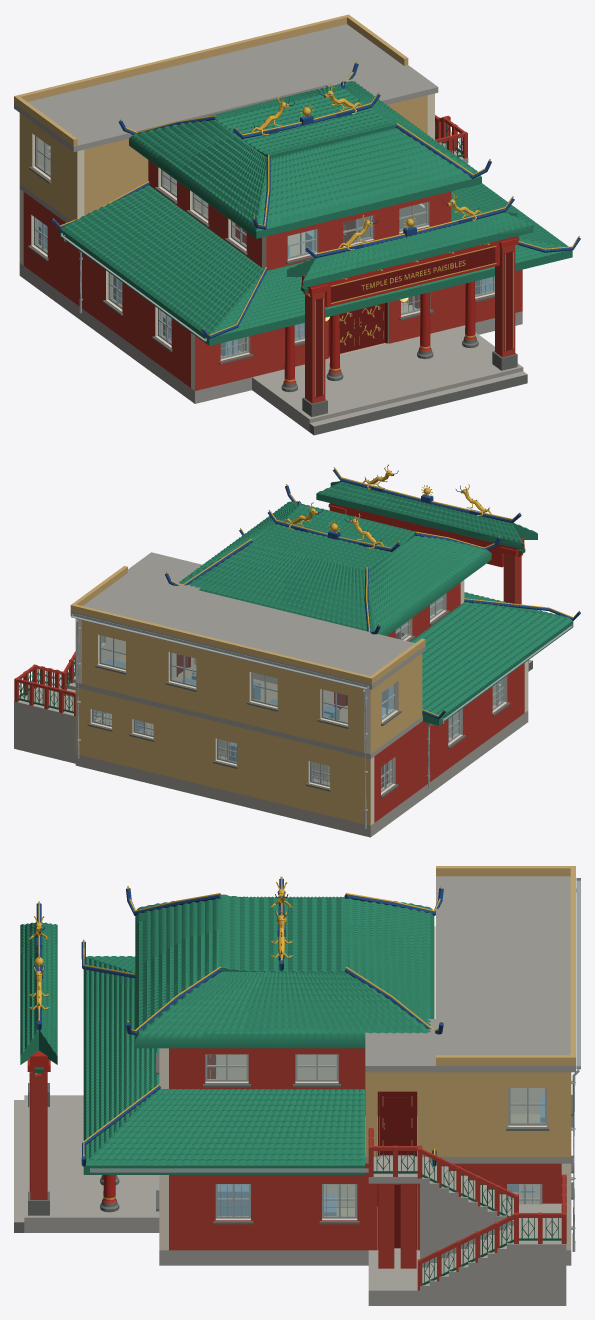
Rendered from port_sarcelle_H03.glb.
3 views of the same model, one above another, from view 1: azimuth 30°, elevation 25°; view 2: azimuth 150°, elevation 25°; view 3: azimuth 270°, elevation 25° (orthographic). The views are drawn at different scales.
Visible parts, largest first — view 1: new_jade_glazed_ceramic, concrete_cast, new_vermilion_render, new_ochre_render, flagstone, plaster_cream_warm, new_oxblood_lacquered_timber, basalt_dressed, new_vermilion_painted_timber, glass, new_cobalt_glazed_ceramic, new_yellow_glazed_ceramic (+5 smaller); view 2: new_ochre_render, new_jade_glazed_ceramic, concrete_cast, new_vermilion_render, plaster_cream_warm, glass, aluminium_weathered, new_cobalt_glazed_ceramic, galvanized_steel, new_yellow_glazed_ceramic, new_vermilion_painted_timber, basalt_dressed (+3 smaller); view 3: new_jade_glazed_ceramic, concrete_cast, new_vermilion_render, new_ochre_render, flagstone, plaster_cream_warm, glass, new_cobalt_glazed_ceramic, aluminium_weathered, galvanized_steel, new_yellow_glazed_ceramic, new_deep_green_painted_metal (+5 smaller).
Part boxes in pixels (left/top/right/bottom): new_jade_glazed_ceramic: left=60, top=81, right=572, bottom=345; concrete_cast: left=14, top=24, right=523, bottom=431; new_vermilion_render: left=23, top=115, right=522, bottom=403; new_ochre_render: left=14, top=14, right=427, bottom=220; flagstone: left=252, top=142, right=527, bottom=426; plaster_cream_warm: left=19, top=93, right=494, bottom=390; new_oxblood_lacquered_timber: left=245, top=222, right=512, bottom=397; basalt_dressed: left=28, top=149, right=527, bottom=435; new_vermilion_painted_timber: left=283, top=236, right=518, bottom=384; glass: left=36, top=137, right=493, bottom=356; new_cobalt_glazed_ceramic: left=52, top=63, right=580, bottom=338; new_yellow_glazed_ceramic: left=53, top=61, right=579, bottom=335; new_ochre_render: left=70, top=566, right=425, bottom=825; new_jade_glazed_ceramic: left=179, top=474, right=573, bottom=725; concrete_cast: left=14, top=552, right=528, bottom=837; new_vermilion_render: left=14, top=513, right=524, bottom=822; plaster_cream_warm: left=75, top=580, right=528, bottom=825; glass: left=94, top=596, right=503, bottom=789; aluminium_weathered: left=92, top=595, right=504, bottom=792; new_cobalt_glazed_ceramic: left=165, top=469, right=580, bottom=719; galvanized_steel: left=71, top=613, right=572, bottom=828; new_yellow_glazed_ceramic: left=166, top=464, right=579, bottom=716; new_vermilion_painted_timber: left=329, top=503, right=524, bottom=567; basalt_dressed: left=87, top=610, right=532, bottom=798; new_jade_glazed_ceramic: left=20, top=894, right=434, bottom=1174; concrete_cast: left=24, top=876, right=575, bottom=1305; new_vermilion_render: left=30, top=1048, right=566, bottom=1290; new_ochre_render: left=365, top=866, right=575, bottom=1156; flagstone: left=14, top=1095, right=565, bottom=1290; plaster_cream_warm: left=159, top=926, right=571, bottom=1250; glass: left=207, top=1055, right=544, bottom=1216; new_cobalt_glazed_ceramic: left=33, top=878, right=443, bottom=1166; aluminium_weathered: left=205, top=1054, right=546, bottom=1218; galvanized_steel: left=90, top=878, right=580, bottom=1251; new_yellow_glazed_ceramic: left=29, top=876, right=442, bottom=1156; new_deep_green_painted_metal: left=373, top=1151, right=561, bottom=1285.
Size of the model in its own units: 17.86 by 9.44 by 17.62.
